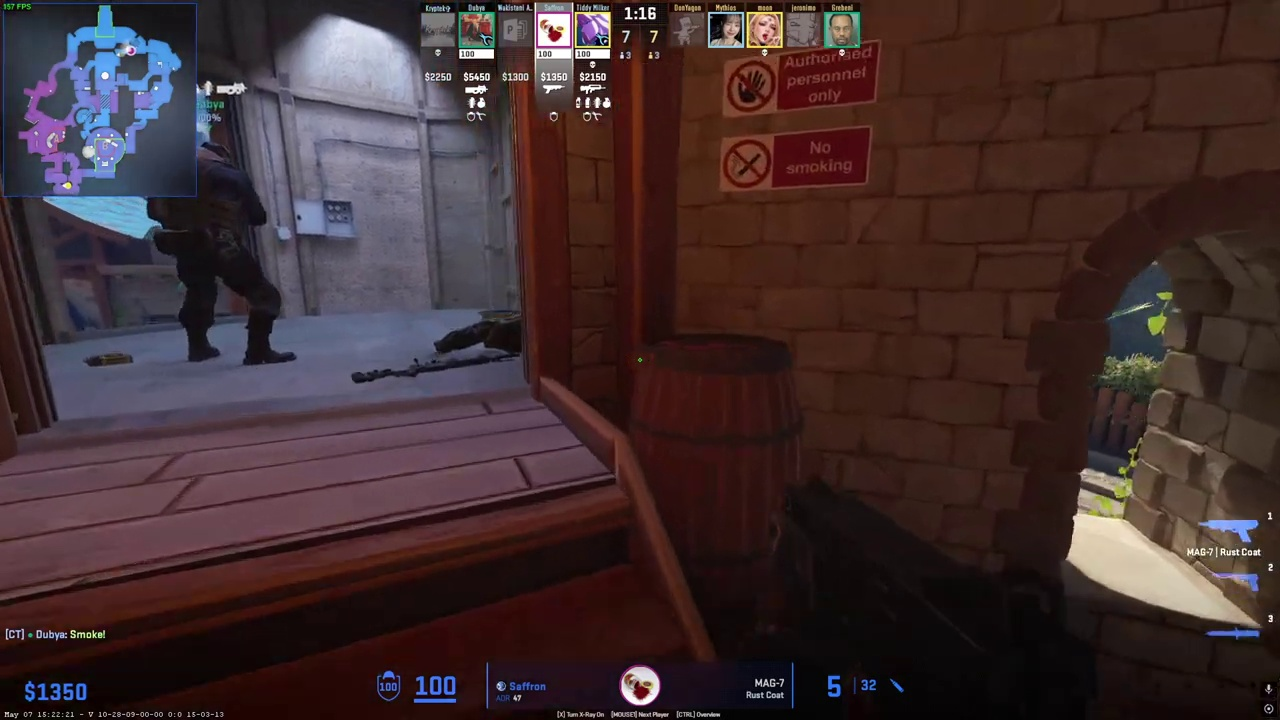CT: (148, 142, 290, 366)
